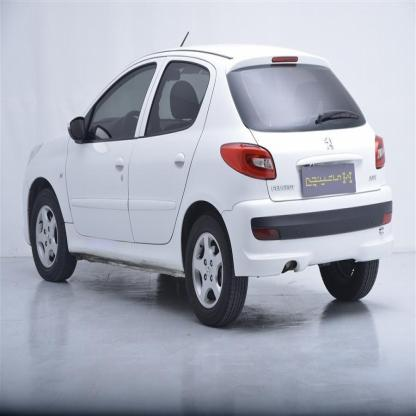Car: (23, 26, 396, 319)
